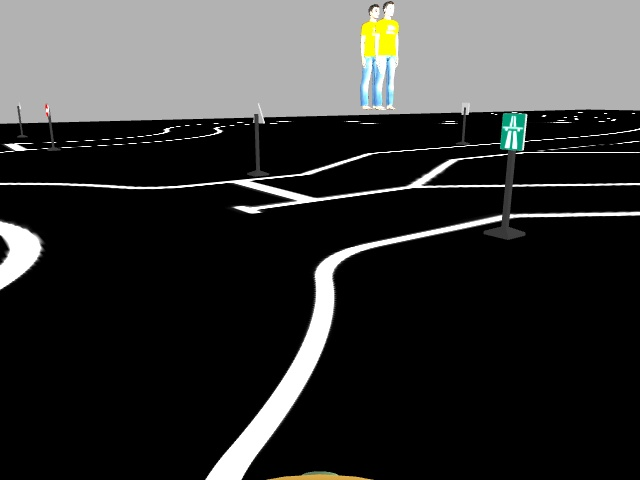HighwayEntrance: (497, 110, 528, 154)
